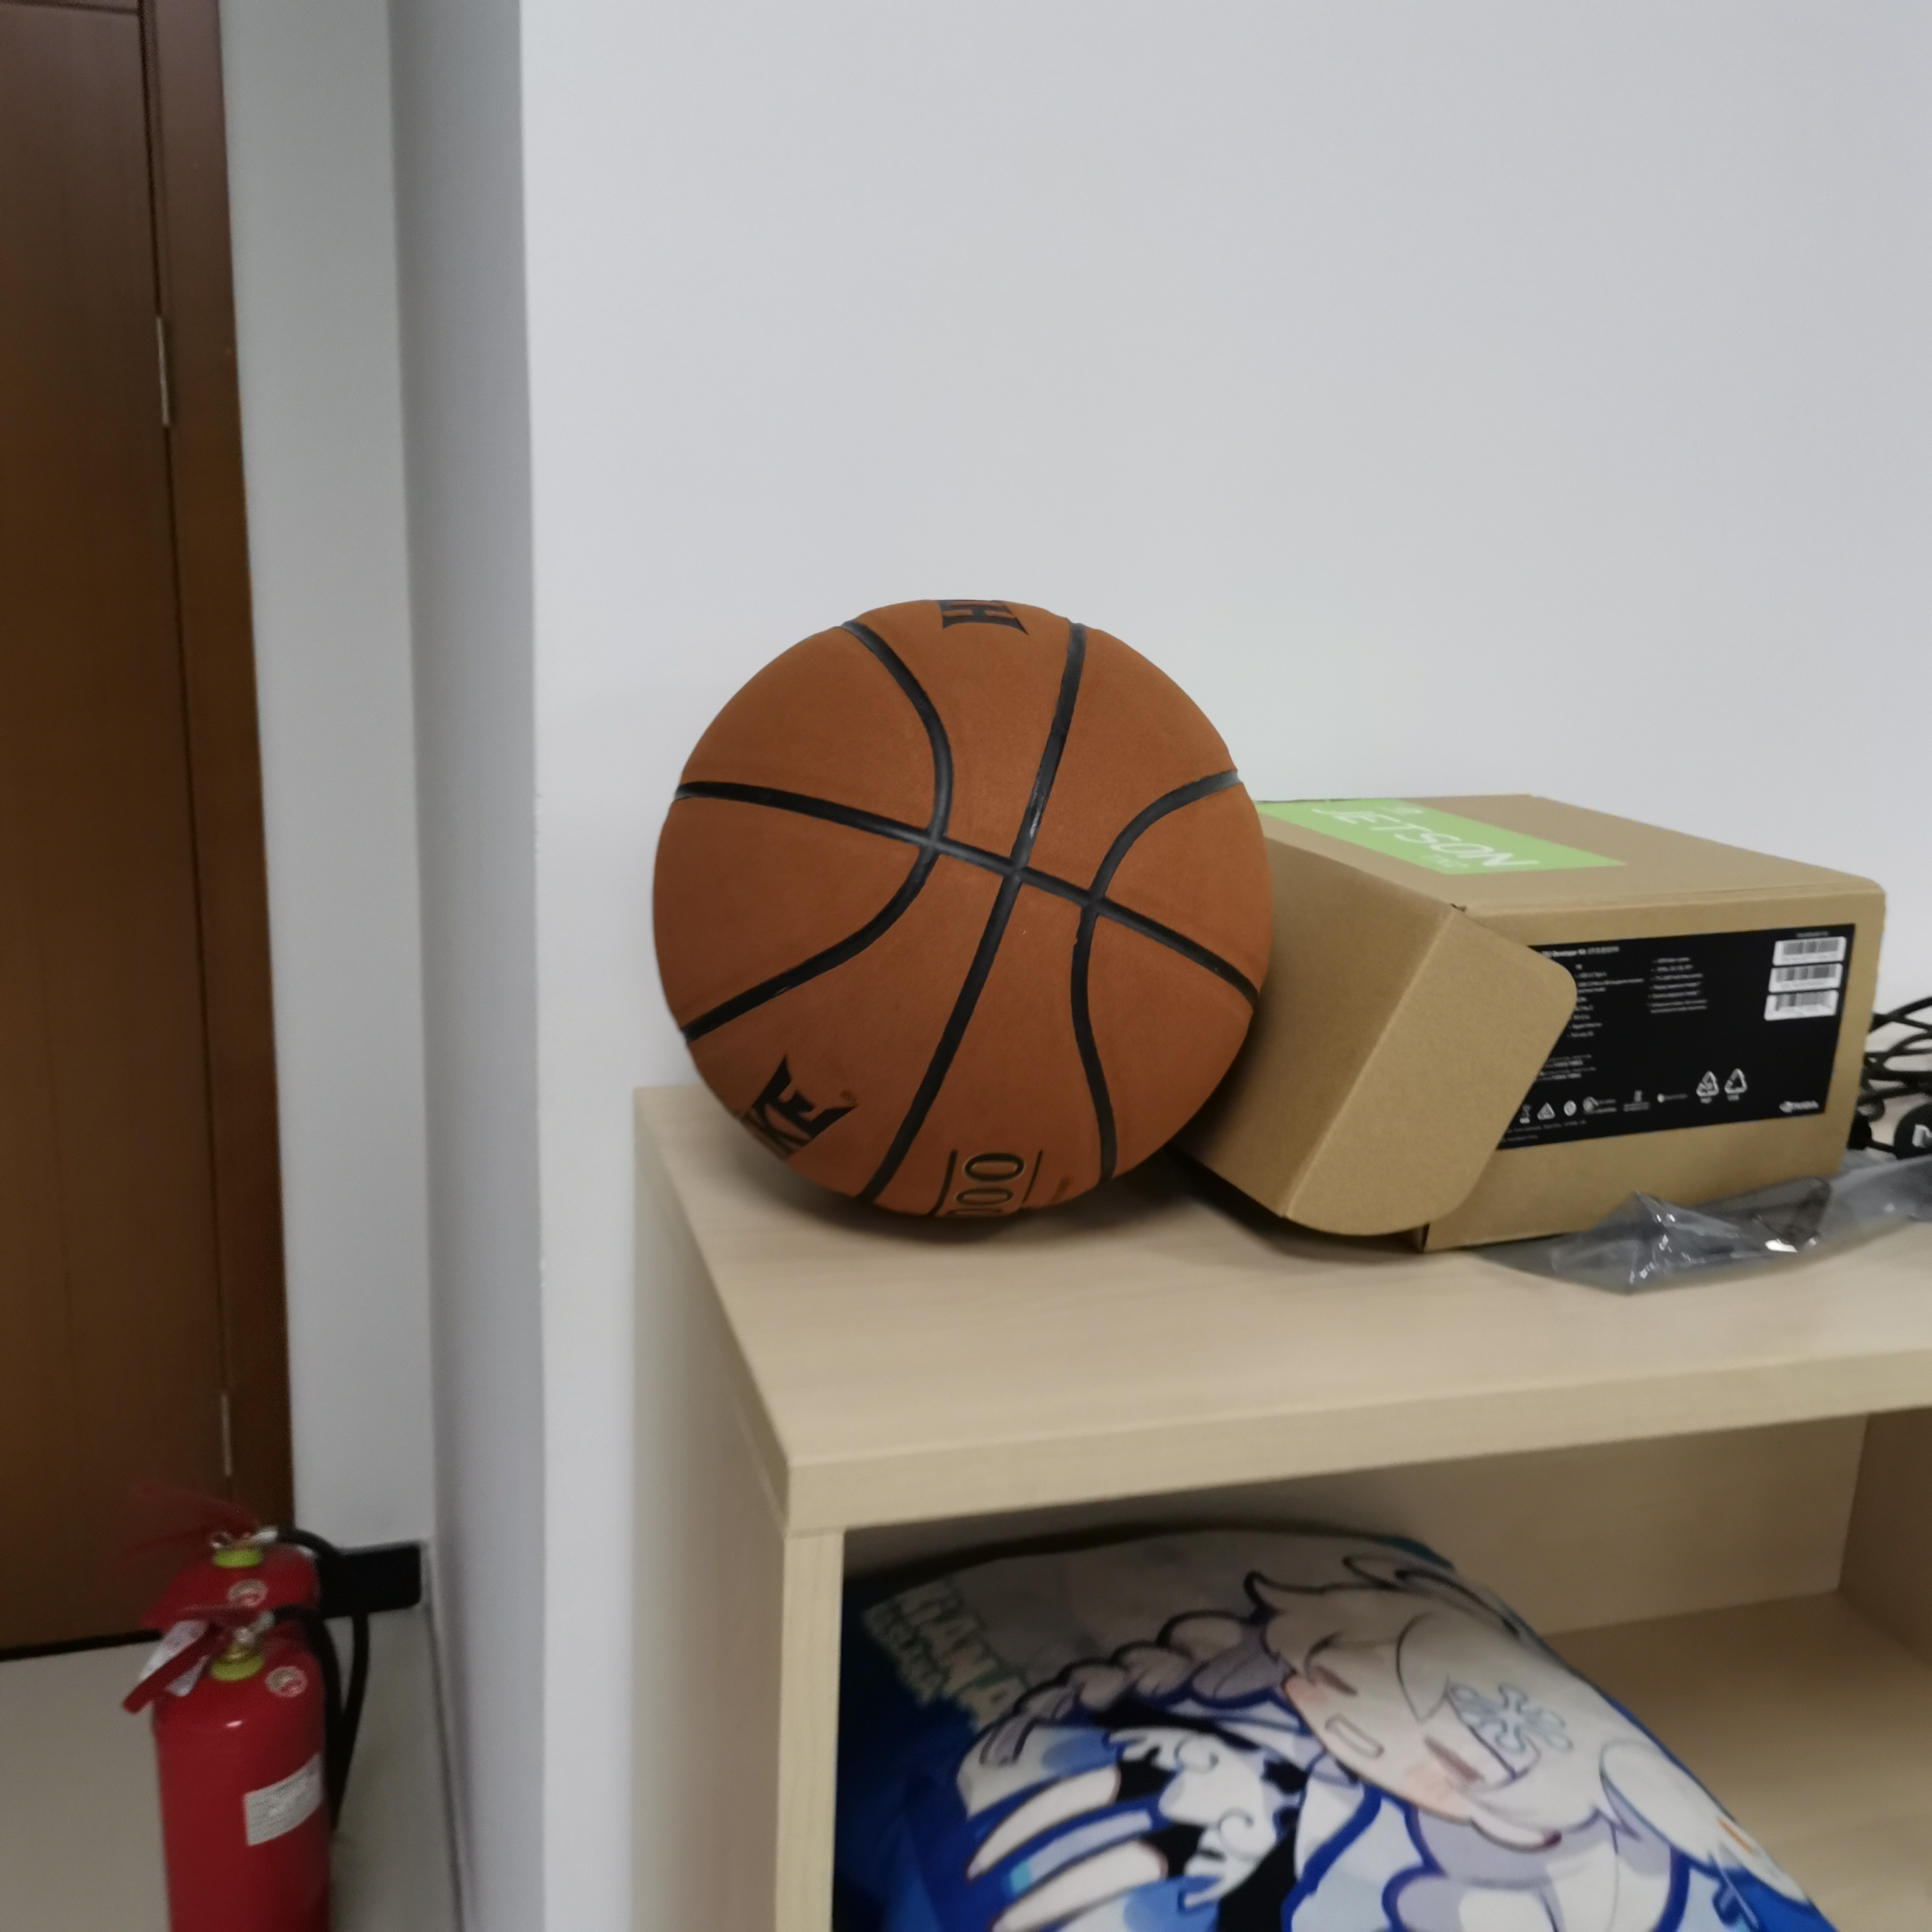basketball: (648, 596, 1284, 1221)
